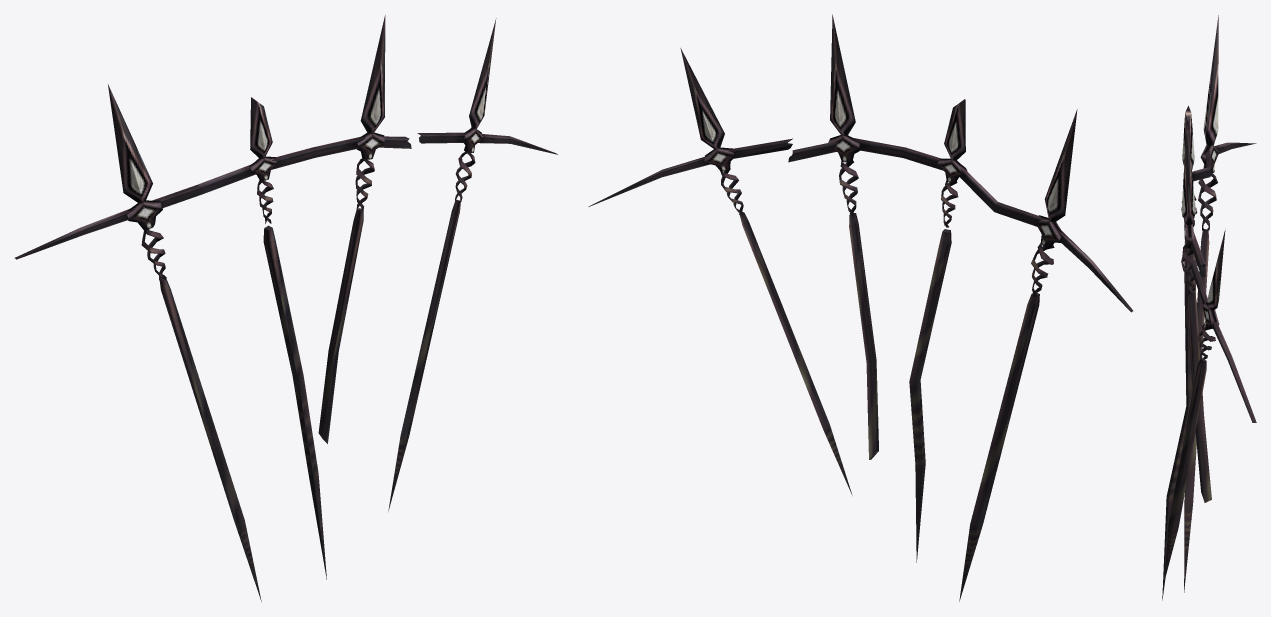
Rendered from DN_tianqi_h.FBX.
3 renders of one model, left to right at view 1: azimuth 30°, elevation 25°; view 2: azimuth 150°, elevation 25°; view 3: azimuth 270°, elevation 25°, orthographic. The views are drawn at different scales.
Visible parts, largest first — view 1: DN_tianqi_h; view 2: DN_tianqi_h; view 3: DN_tianqi_h.
Boxes of the visible parts, x1,y1,x2,y2 form: DN_tianqi_h: (15, 15, 557, 601); DN_tianqi_h: (588, 14, 1133, 601); DN_tianqi_h: (1162, 15, 1256, 600).
Size of the model in its own units: 2103 by 2067 by 332.
